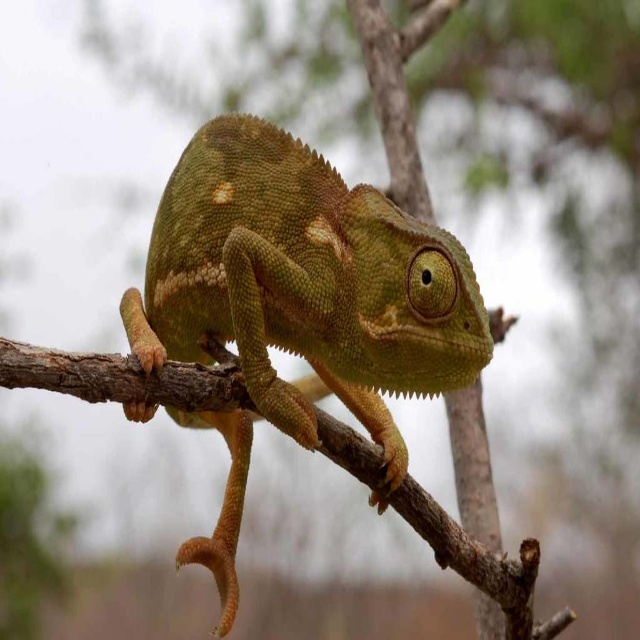Lizard: (119, 123, 523, 596)
